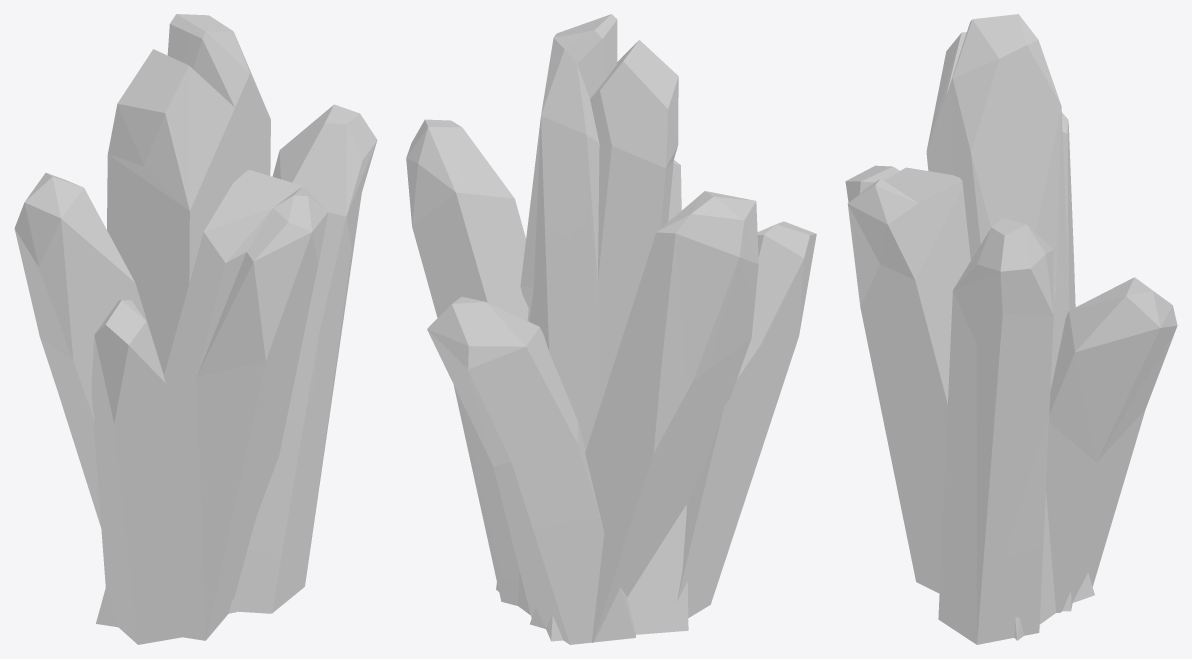
The model's file is mining_PP_Crystal_Cluster_05_Silver.gltf.
The picture shows the model from 3 angles, left to right: view 1: azimuth 30°, elevation 25°; view 2: azimuth 150°, elevation 25°; view 3: azimuth 270°, elevation 25°; orthographic projection.
Visible parts, largest first — view 1: PP_Crystal_Cluster_05_Silver; view 2: PP_Crystal_Cluster_05_Silver; view 3: PP_Crystal_Cluster_05_Silver.
Part boxes in pixels (bbox=[...]): PP_Crystal_Cluster_05_Silver: bbox=[14, 14, 377, 644]; PP_Crystal_Cluster_05_Silver: bbox=[406, 14, 816, 644]; PP_Crystal_Cluster_05_Silver: bbox=[845, 14, 1177, 644].
Bounding box in the file's own units: 0.4682 × 0.756 × 0.3931.
Materials: 1 (1 with a texture image).
